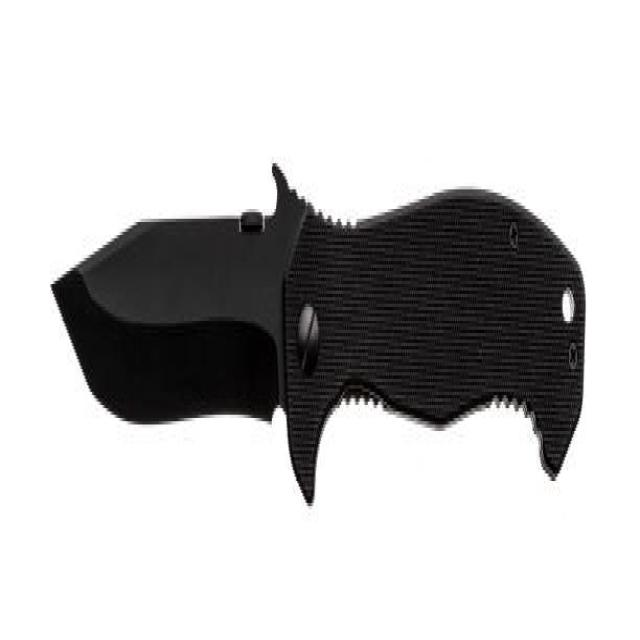knife: (54, 133, 591, 522)
